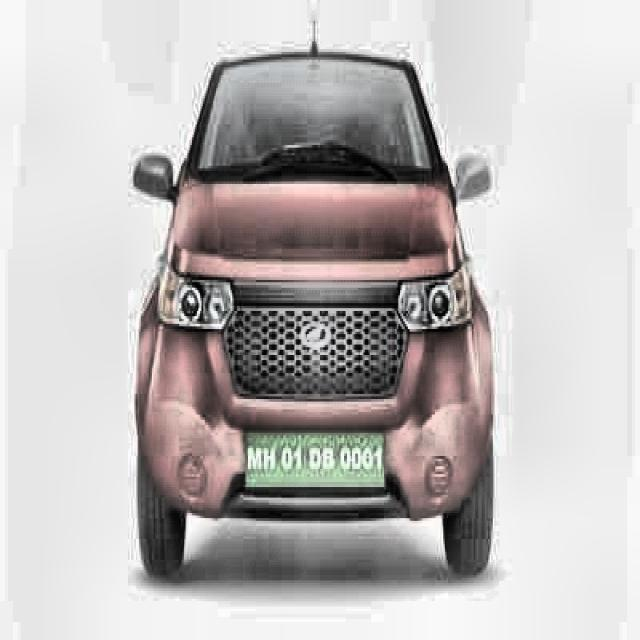license_plate: (243, 433, 384, 495)
